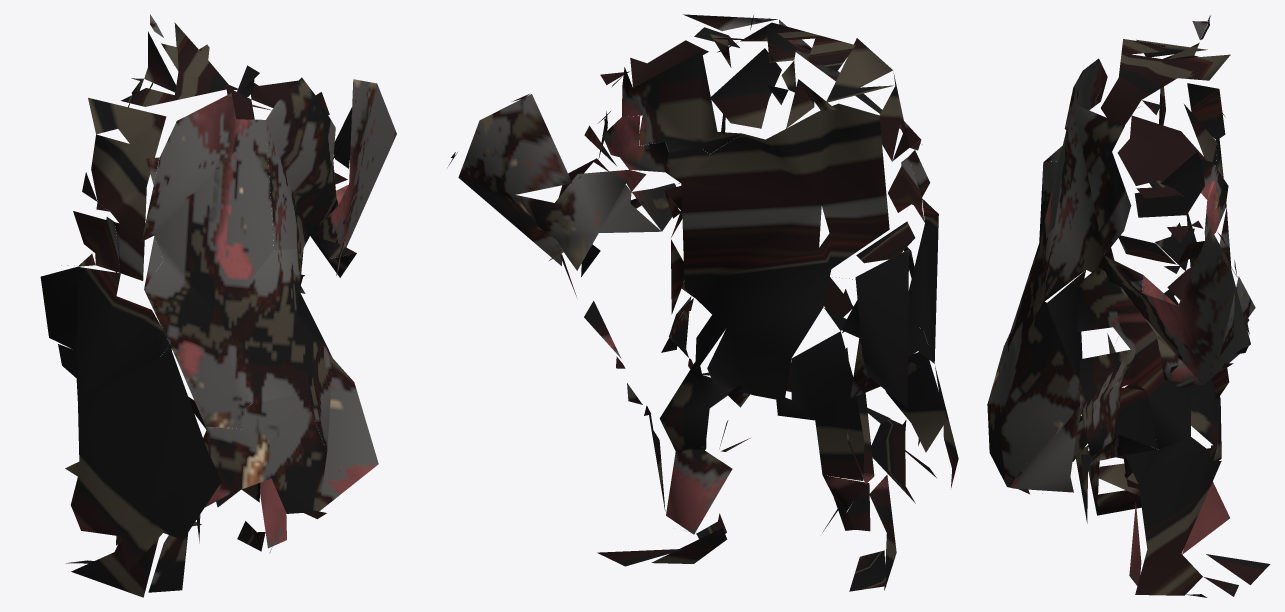
The picture shows the model from 3 angles, left to right: view 1: azimuth 30°, elevation 25°; view 2: azimuth 150°, elevation 25°; view 3: azimuth 270°, elevation 25°; orthographic projection. The views are drawn at different scales.
Parts seen in each view (by area): view 1: body.002; view 2: body.002; view 3: body.002.
Part boxes in pixels (x1,y1,x2,y2): body.002: (40,14,396,597); body.002: (447,14,958,591); body.002: (987,15,1270,597).
Size of the model in its own units: 1.59 by 2 by 0.9632.
Materials: 1 (1 with a texture image).
